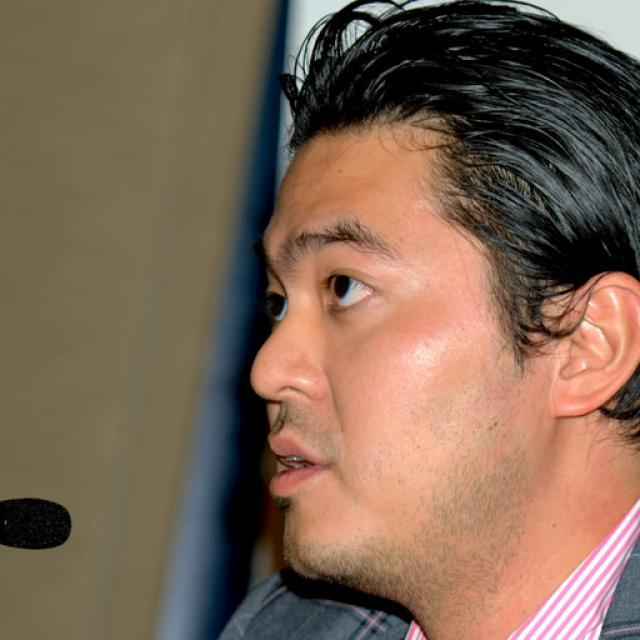surprise: (248, 112, 550, 586)
